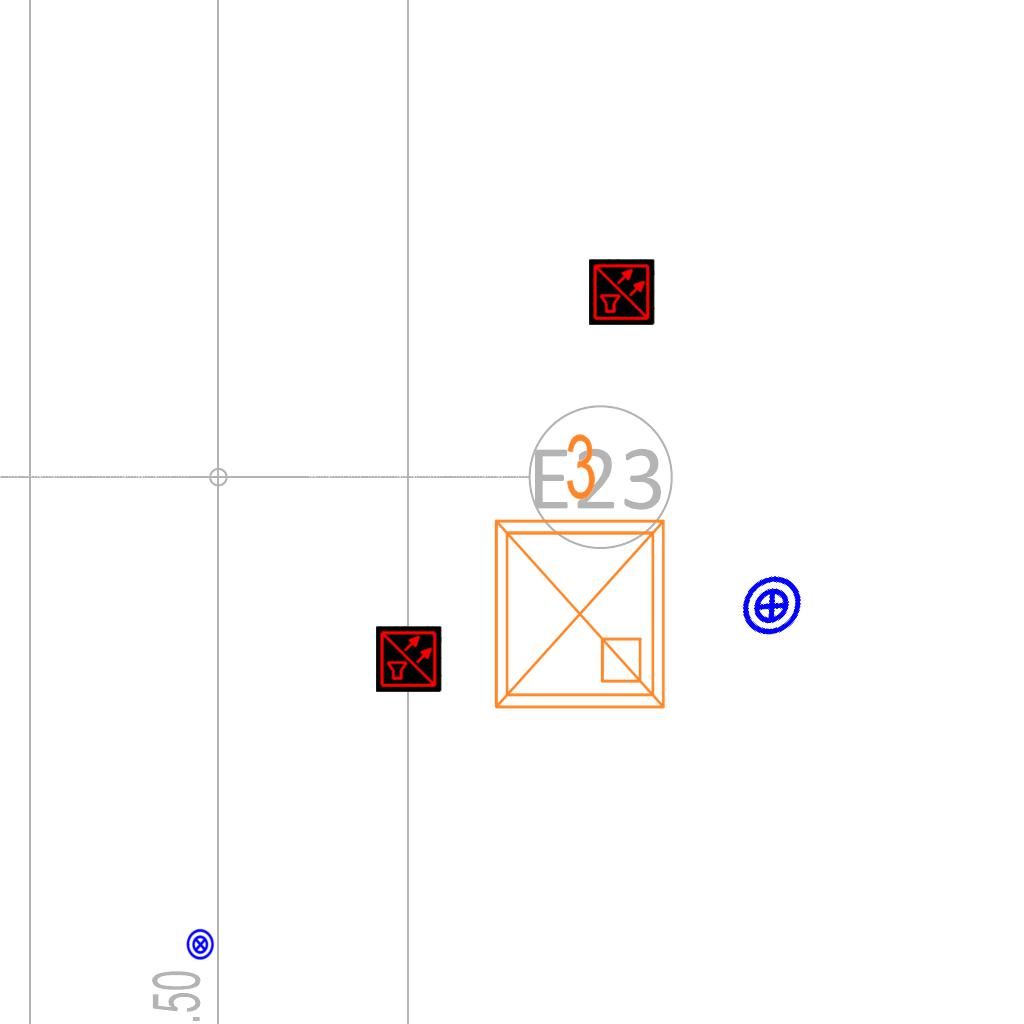Einbaudownlights_LED_Konferenzraeume: (472, 423, 680, 723)
OKW_Multisensormelder_(Kombination_optischer_Rauch-Kahlenmonoxid_Waerme-Melder): (589, 259, 655, 325), (376, 626, 442, 692)
Taster_beleuchtet: (725, 559, 819, 653), (184, 928, 217, 961)
